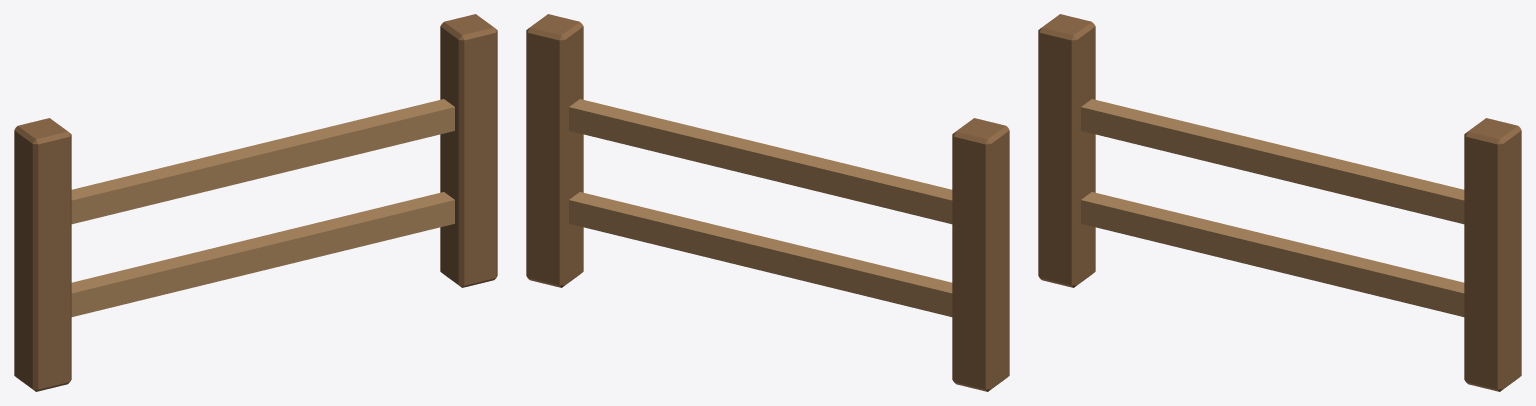
Rendered from Fence.glb.
3 views of the same model, side by side, from view 1: azimuth 30°, elevation 25°; view 2: azimuth 150°, elevation 25°; view 3: azimuth 330°, elevation 25° (orthographic).
Visible parts, largest first — view 1: Post, Post.001, Rail, Rail.001; view 2: Post, Post.001, Rail, Rail.001; view 3: Post.001, Post, Rail, Rail.001.
Boxes of the visible parts, x1,y1,x2,y2 form: Post: (14,118,71,391); Post.001: (440,14,497,287); Rail: (71,192,454,316); Rail.001: (71,99,454,224); Post: (952,118,1009,391); Post.001: (526,14,583,287); Rail: (569,192,952,316); Rail.001: (569,99,952,224); Post.001: (1464,118,1521,391); Post: (1038,14,1095,287); Rail: (1081,192,1464,316); Rail.001: (1081,99,1464,224).
Size of the model in its own units: 6.55 by 3.4 by 0.55.
